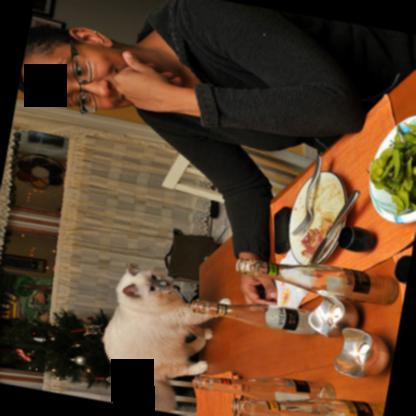handbag: (163, 229, 219, 284)
